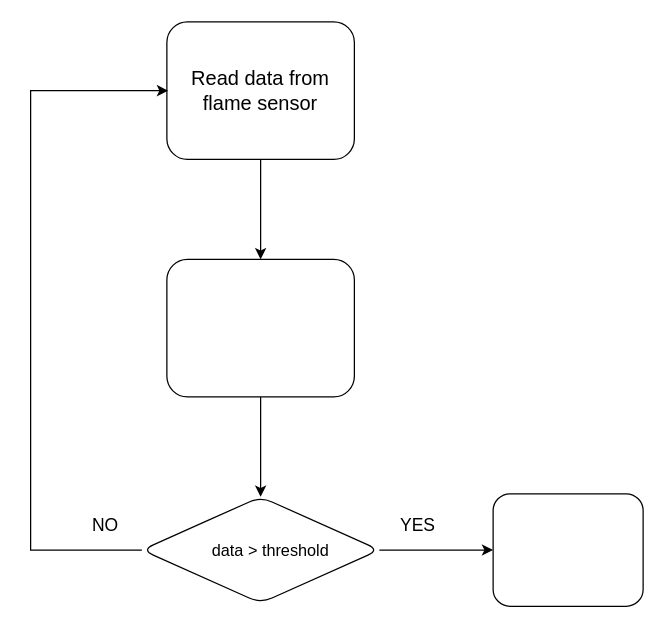
Some shapes in this 665 by 629 pixel diagram are drawn without their labels. The centre of each missing label's shape, as x and y in pixels:
"Arduino UNO" belongs at (x=260, y=327).
"Send a message to the smartphone" belongs at (x=567, y=549).
